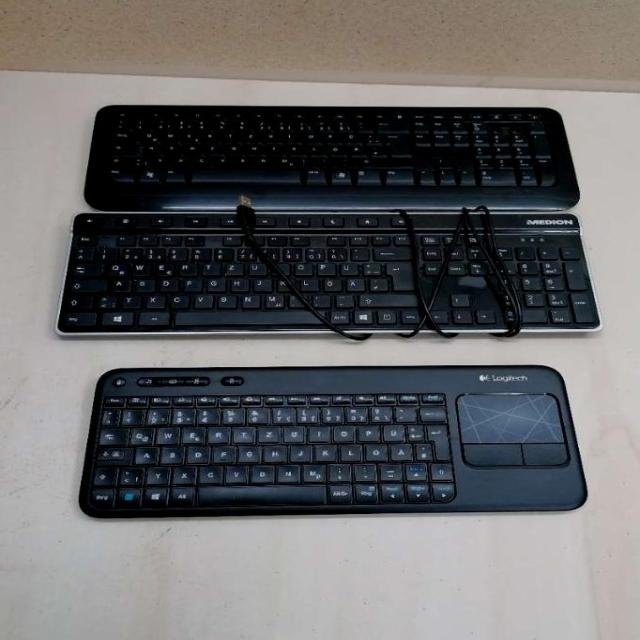keyboard: (77, 361, 591, 516), (53, 210, 604, 333), (80, 101, 580, 210)
